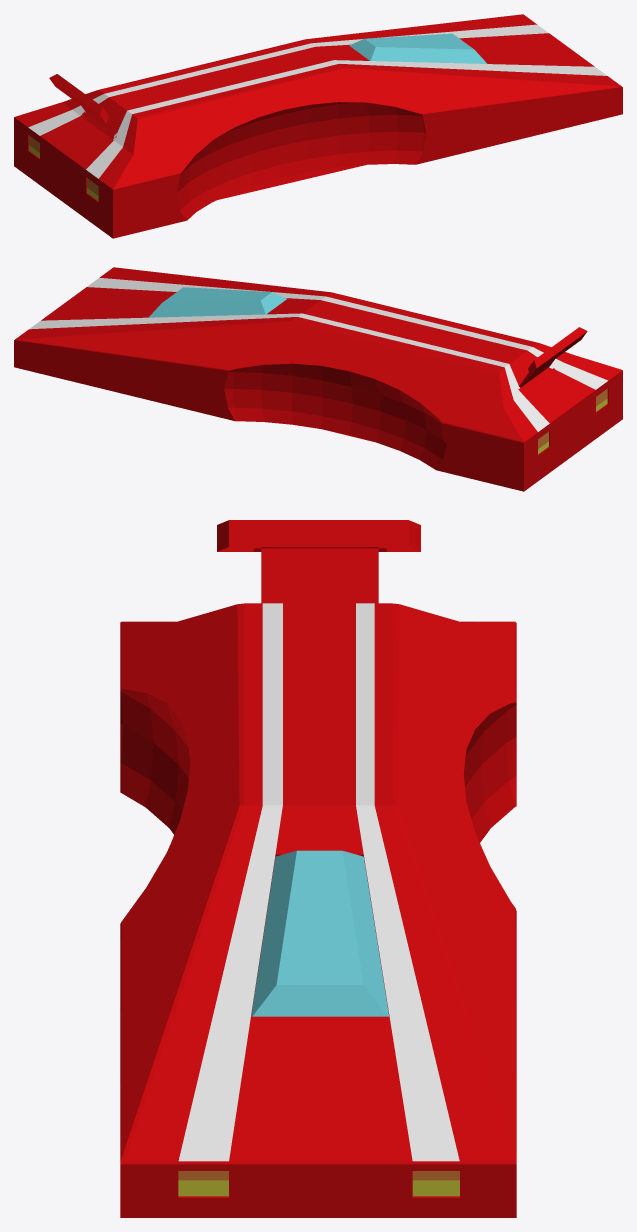
Rendered from F1Car.fbx.
3 views of the same model, one above another, from view 1: azimuth 30°, elevation 25°; view 2: azimuth 150°, elevation 25°; view 3: azimuth 270°, elevation 25° (orthographic). The views are drawn at different scales.
Visible parts, largest first — view 1: Cube; view 2: Cube; view 3: Cube.
Boxes of the visible parts, <box> form: Cube: <box>14,14,622,238</box>; Cube: <box>14,267,622,491</box>; Cube: <box>120,520,516,1217</box>.
Size of the model in its own units: 585 by 118 by 197.
